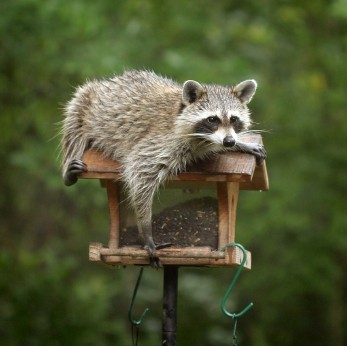raccoon: (66, 68, 253, 237)
